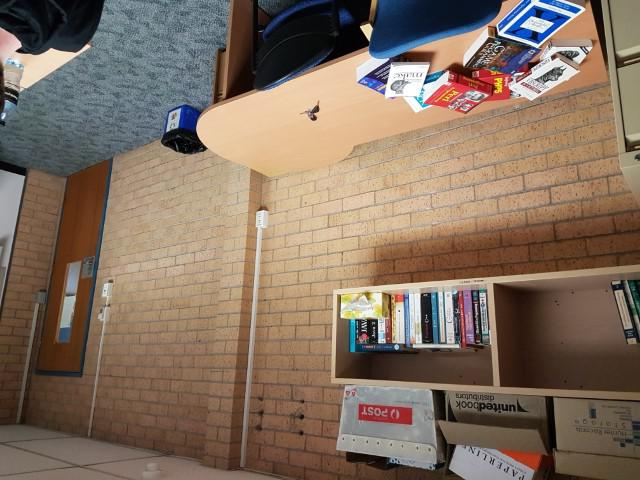key: (310, 99, 320, 114)
